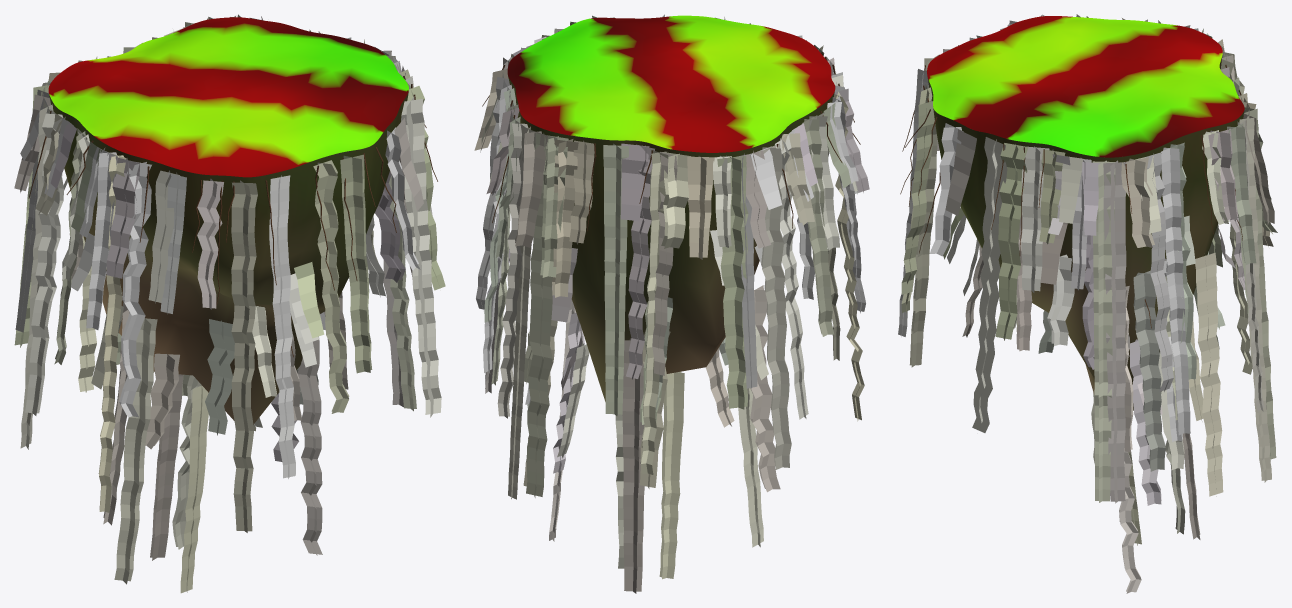
File: SM_H11_Floater01.fbx
3 renders of one model, left to right at view 1: azimuth 30°, elevation 25°; view 2: azimuth 150°, elevation 25°; view 3: azimuth 270°, elevation 25°, orthographic. The views are drawn at different scales.
Parts seen in each view (by area): view 1: SM_H11_Floater01_Ivy, SM_H11_Floater01; view 2: SM_H11_Floater01_Ivy, SM_H11_Floater01; view 3: SM_H11_Floater01_Ivy, SM_H11_Floater01.
Boxes of the visible parts, bbox=[...] form: SM_H11_Floater01_Ivy: bbox=[14, 14, 445, 593]; SM_H11_Floater01: bbox=[48, 17, 408, 424]; SM_H11_Floater01_Ivy: bbox=[474, 14, 869, 593]; SM_H11_Floater01: bbox=[507, 15, 835, 401]; SM_H11_Floater01_Ivy: bbox=[898, 14, 1277, 593]; SM_H11_Floater01: bbox=[927, 16, 1244, 410].
Bounding box in the file's own units: 28.57 × 38.95 × 27.97.
